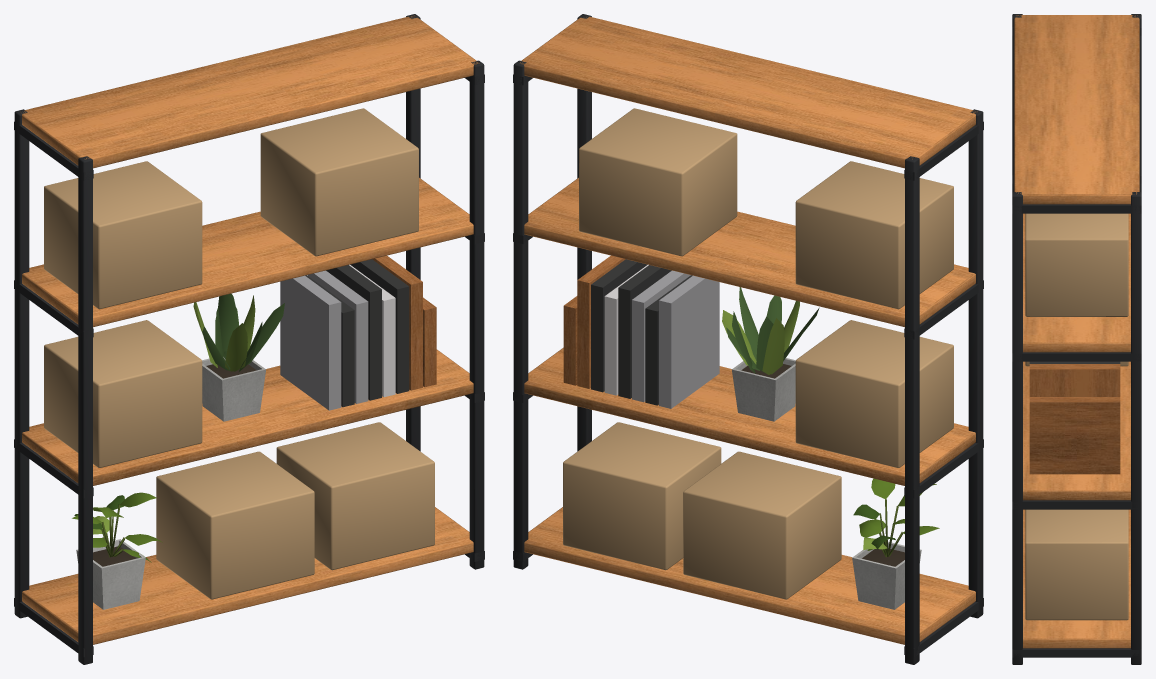
Rendered from storage.partition-shelf.glb.
3 renders of one model, left to right at view 1: azimuth 30°, elevation 25°; view 2: azimuth 150°, elevation 25°; view 3: azimuth 270°, elevation 25°, orthographic. The views are drawn at different scales.
Visible parts, largest first — view 1: storage.partition-shelf.001; view 2: storage.partition-shelf.001; view 3: storage.partition-shelf.001.
Boxes of the visible parts, left/top/right/bottom form: storage.partition-shelf.001: left=14, top=14, right=484, bottom=664; storage.partition-shelf.001: left=513, top=14, right=983, bottom=664; storage.partition-shelf.001: left=1012, top=14, right=1141, bottom=664.
Bounding box in the file's own units: 1 × 1.2 × 0.3.
14 materials, 3 textured.
